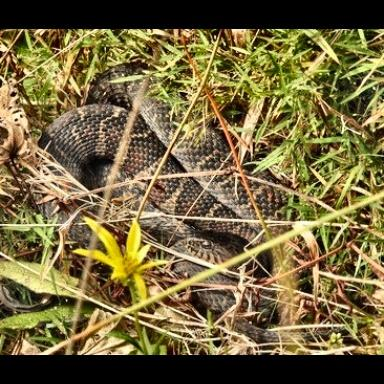snake: (38, 75, 281, 279), (179, 251, 274, 316)
